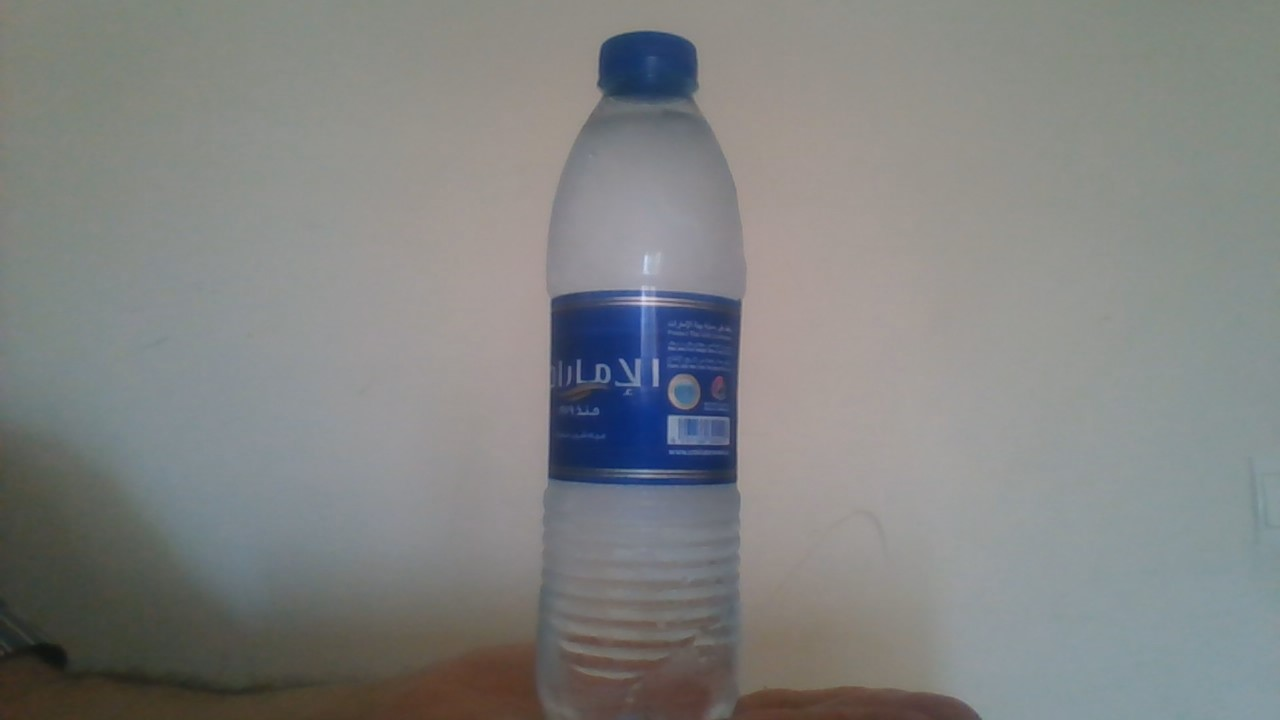plastic: (533, 23, 751, 720)
